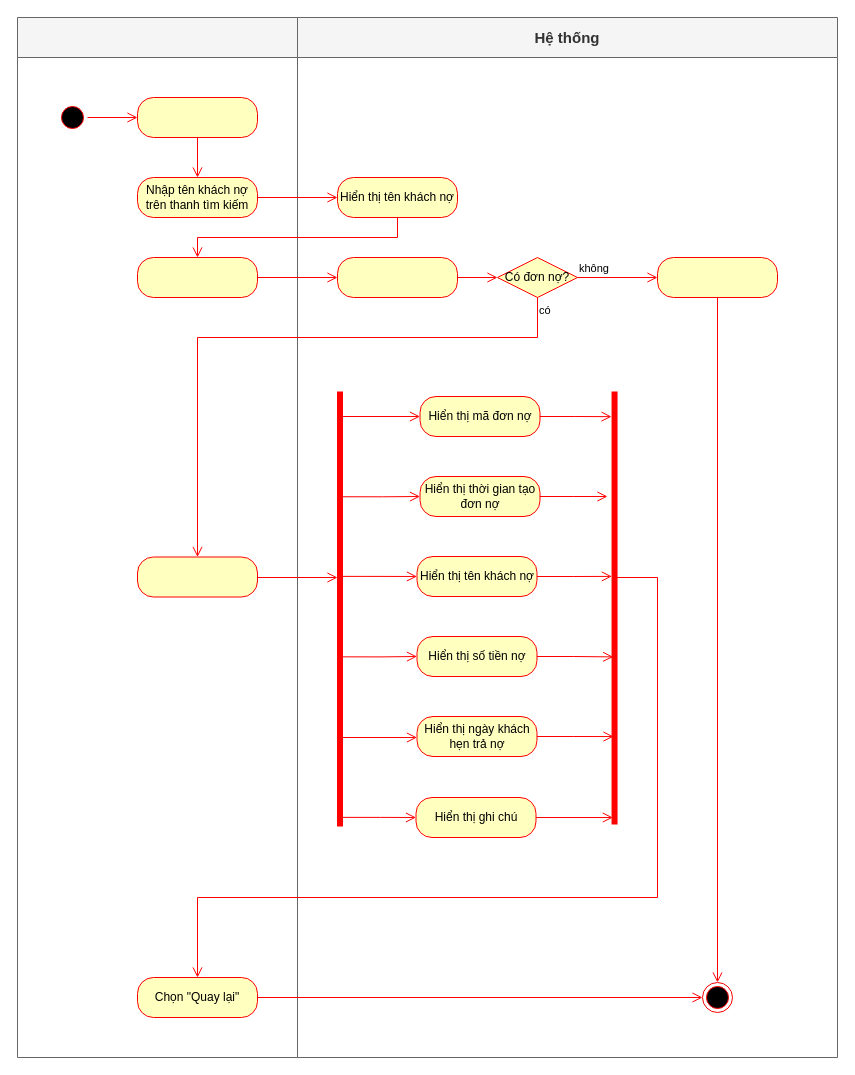
Some shapes in this 855 by 1075 pixel diagram are drawn without their labels. Here are the shapes that lost their labels. From the top down, the box of each, then its label:
(136, 96, 258, 138): Chọn "Đơn nợ"
(136, 256, 258, 298): Chạm vào tên khách nợ
(336, 256, 458, 298): Hiển thị các đơn nợ
(656, 256, 778, 298): Thông báo "Không có đơn nợ"
(16, 16, 298, 1058): Chủ tạp hoá
(136, 556, 258, 597): Chạm vào đơn nợ
